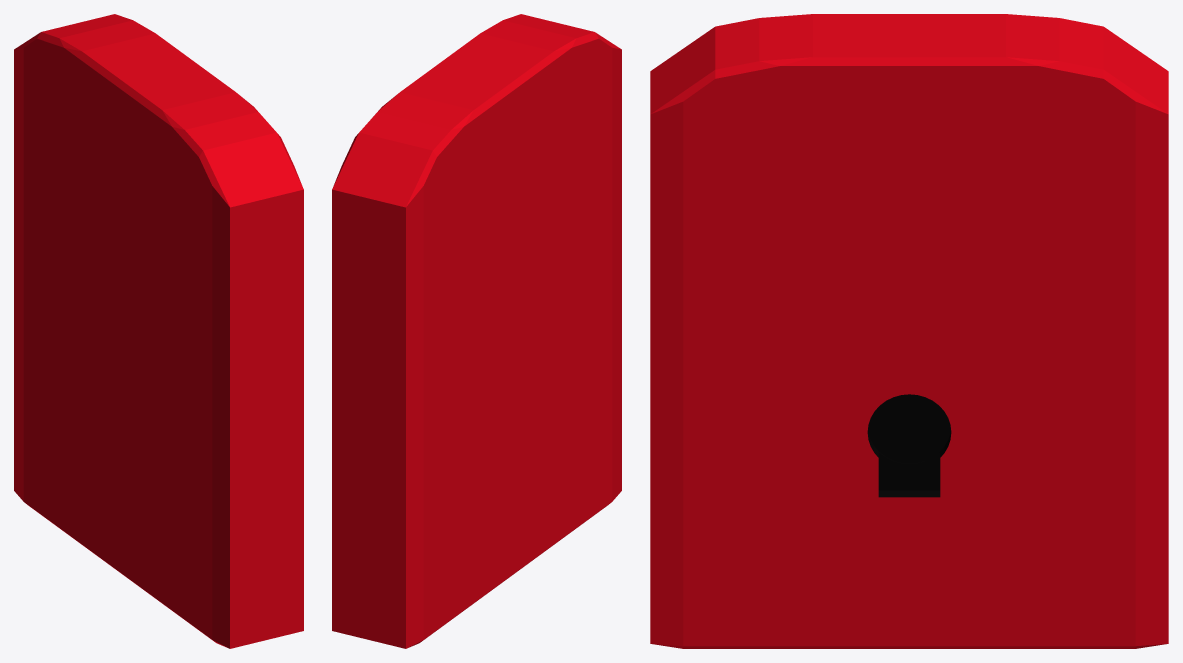
Rendered from door.glb.
3 renders of one model, left to right at view 1: azimuth 30°, elevation 25°; view 2: azimuth 150°, elevation 25°; view 3: azimuth 270°, elevation 25°, orthographic. The views are drawn at different scales.
Parts seen in each view (by area): view 1: Cube; view 2: Cube; view 3: Cube.
Part boxes in pixels (x1,y1,x2,y2): Cube: [14, 14, 303, 648]; Cube: [332, 14, 621, 648]; Cube: [650, 14, 1168, 648].
Size of the model in its own units: 2 by 11.51 by 9.13.
